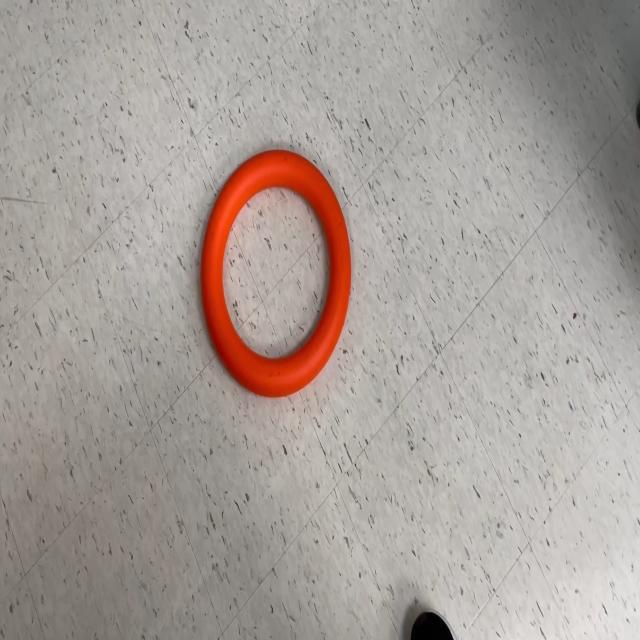note: (200, 147, 352, 397)
